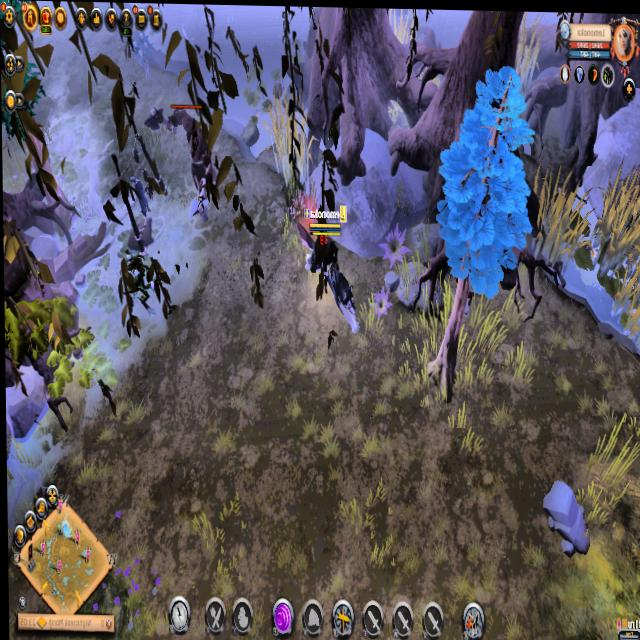rock tier 1: (539, 474, 589, 561)
wood tier 4: (432, 59, 536, 303)
